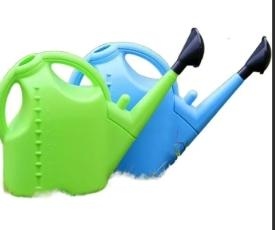ARROSOIR: (0, 0, 273, 204)
